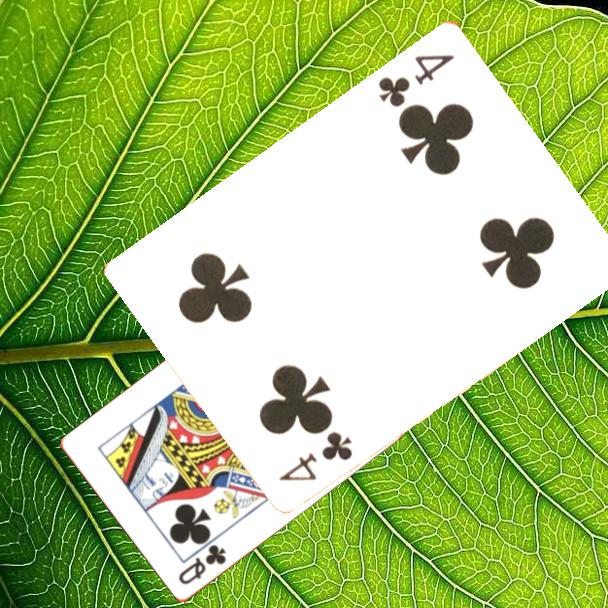c04: (374, 50, 458, 110), (275, 427, 356, 484)
c12: (175, 541, 229, 588)
